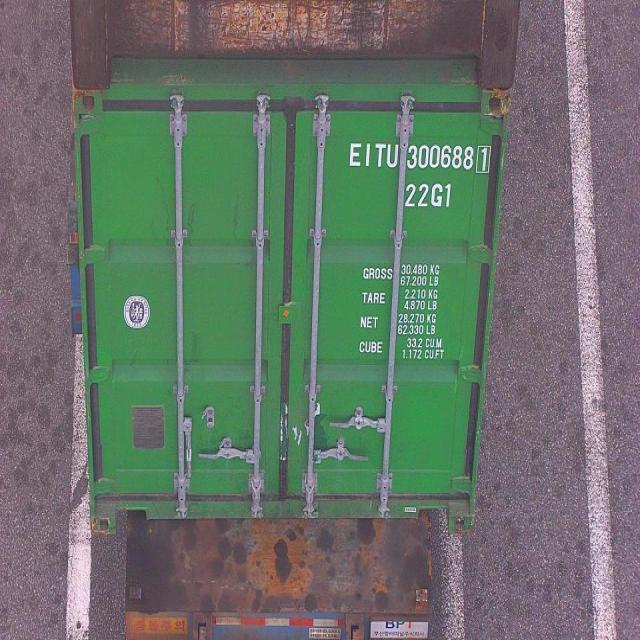ISO: (406, 184, 454, 208)
container_number: (356, 145, 490, 171)
